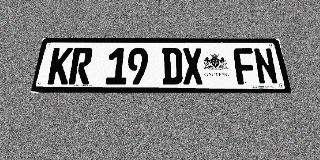1: (105, 48, 128, 85)
9: (127, 48, 148, 85)
D: (162, 48, 183, 85)
F: (233, 48, 258, 85)
K: (47, 47, 73, 84)
N: (252, 48, 279, 85)
R: (68, 48, 93, 85)
X: (182, 48, 204, 85)
